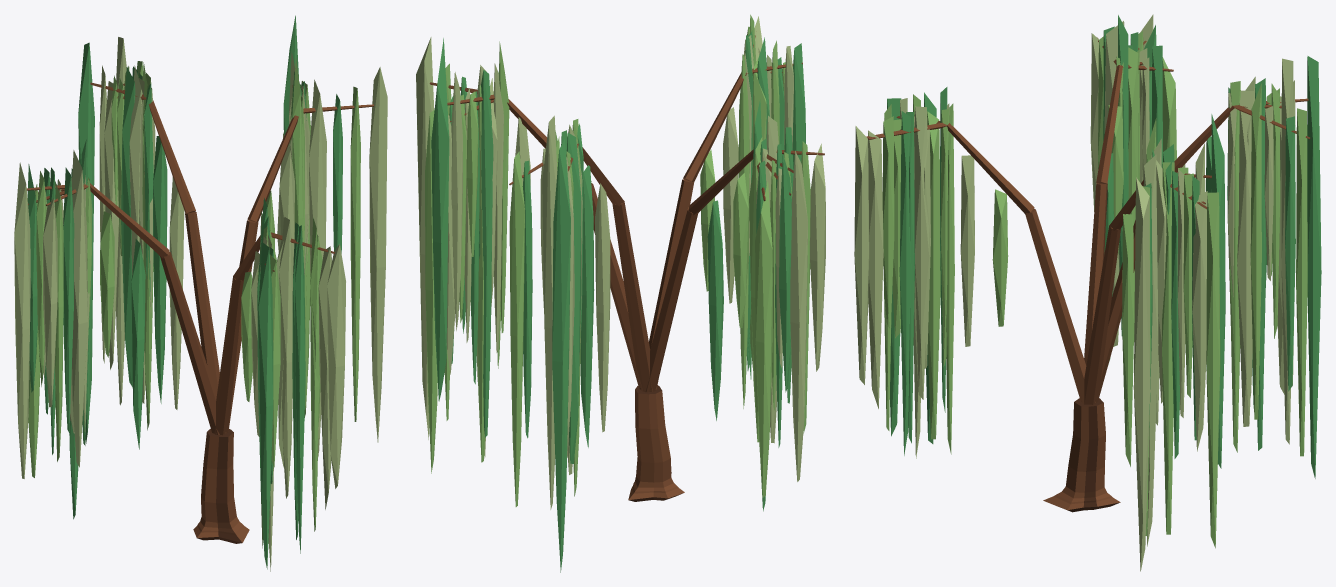
Rendered from tree_willow_a.glb.
3 renders of one model, left to right at view 1: azimuth 30°, elevation 25°; view 2: azimuth 150°, elevation 25°; view 3: azimuth 270°, elevation 25°, orthographic. The views are drawn at different scales.
Parts seen in each view (by area): view 1: TreeWillowA; view 2: TreeWillowA; view 3: TreeWillowA.
Boxes of the visible parts, x1,y1,x2,y2 form: TreeWillowA: (14,15,387,571); TreeWillowA: (416,14,825,572); TreeWillowA: (854,14,1321,571).
Bounding box in the file's own units: 11.99 × 13.62 × 12.51.
